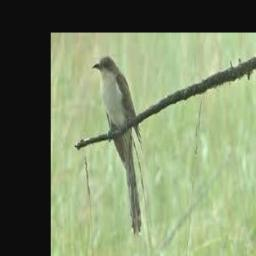Cuckoo: (93, 56, 145, 237)
